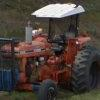Tractor: (4, 5, 100, 100)
